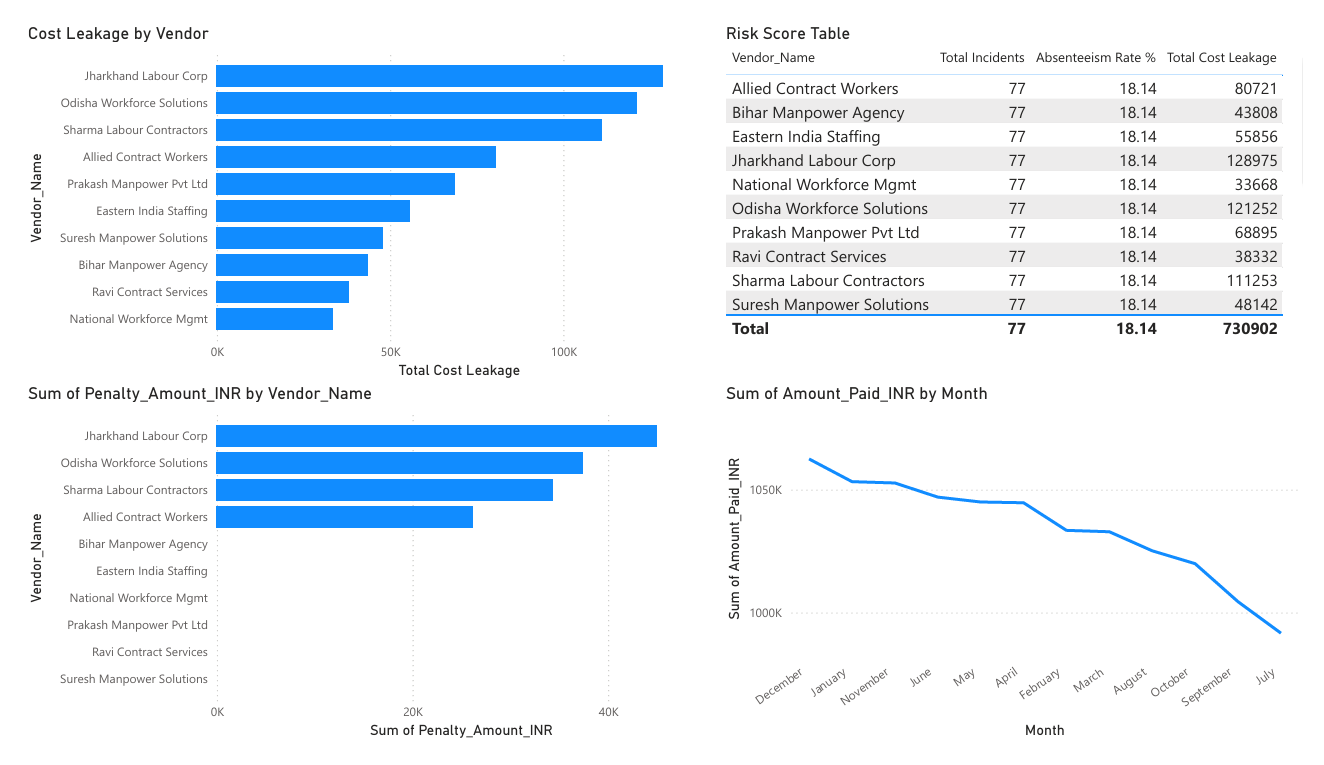

The page's visual inventory and layout, read from the dashboard file:
{"tool":"powerbi","page":{"name":"Cost & Risk Analysis","canvas":[1280,720],"ordinal":3},"visuals":[{"type":"clusteredBarChart","title":"Cost Leakage by Vendor","fields":{"Category":["contractor_workforce_risk vendor_master.Vendor_Name"],"Y":["contractor_workforce_risk attendance_log.Total Cost Leakage"]},"box":[0,0,698,360],"z":0},{"type":"clusteredBarChart","fields":{"Category":["contractor_workforce_risk vendor_master.Vendor_Name"],"Y":["Sum(contractor_workforce_risk cost_log.Penalty_Amount_INR)"]},"box":[0,360,698,360],"z":1000},{"type":"tableEx","title":"Risk Score Table","fields":{"Values":["contractor_workforce_risk cost_log.Vendor_Name","contractor_workforce_risk attendance_log.Total Incidents","contractor_workforce_risk attendance_log.Absenteeism Rate %","contractor_workforce_risk attendance_log.Total Cost Leakage"]},"box":[698,0,582,360],"z":2000},{"type":"lineChart","fields":{"Category":["contractor_workforce_risk cost_log.Month"],"Y":["Sum(contractor_workforce_risk cost_log.Amount_Paid_INR)"]},"box":[698,360,582,360],"z":3000}]}

Visuals, with their boxes in screenshot pixels (x1, y1, x2, y2), scaled from the page's 1280x720 canvas onto the 1324x765 screenshot:
"Cost Leakage by Vendor" clusteredBarChart: region(0, 0, 722, 382)
clusteredBarChart - contractor_workforce_risk vendor_master.Vendor_Name x Sum(contractor_workforce_risk cost_log.Penalty_Amount_INR): region(0, 382, 722, 764)
"Risk Score Table" tableEx: region(722, 0, 1323, 382)
lineChart - contractor_workforce_risk cost_log.Month x Sum(contractor_workforce_risk cost_log.Amount_Paid_INR): region(722, 382, 1323, 764)
